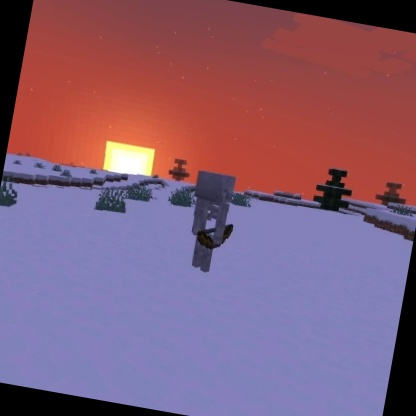skeleton: (177, 167, 245, 280)
